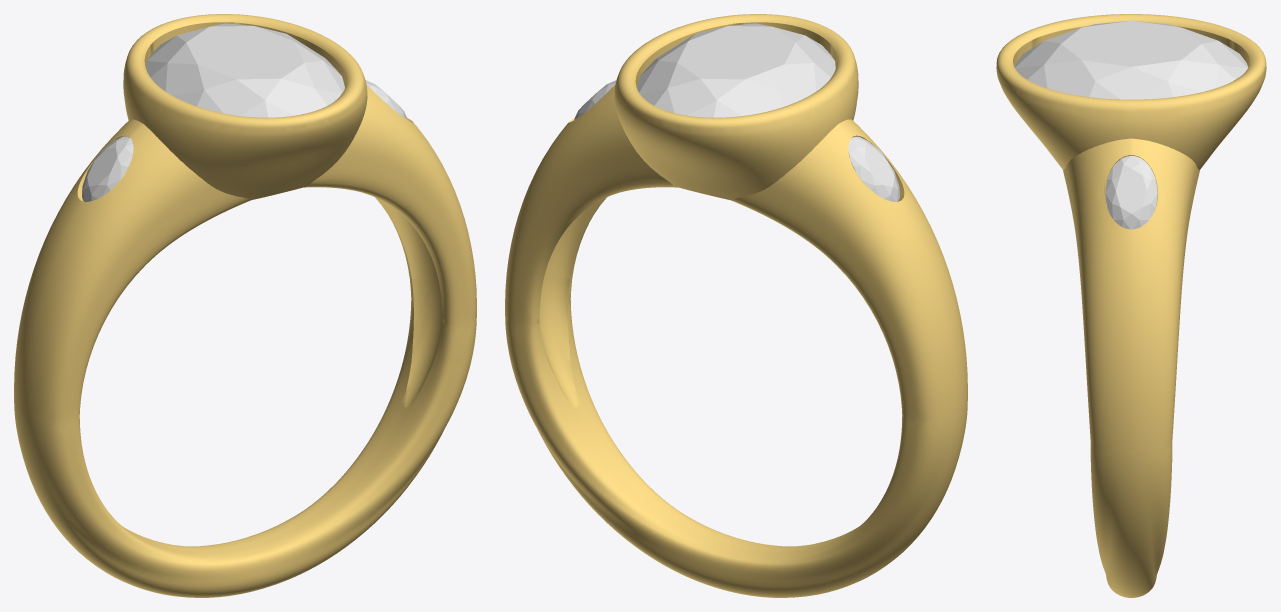
Rendered from SamV5new_blender.glb.
The picture shows the model from 3 angles, left to right: view 1: azimuth 30°, elevation 25°; view 2: azimuth 150°, elevation 25°; view 3: azimuth 270°, elevation 25°; orthographic projection.
Parts seen in each view (by area): view 1: V5 Sam YG for 3d model, V5 Sam dia for 3d model, V5 Sam dia for 3d model.002; view 2: V5 Sam YG for 3d model, V5 Sam dia for 3d model, V5 Sam dia for 3d model.002; view 3: V5 Sam YG for 3d model, V5 Sam dia for 3d model, V5 Sam dia for 3d model.001.
Boxes of the visible parts, <box> form: V5 Sam YG for 3d model: <box>14,14,476,597</box>; V5 Sam dia for 3d model: <box>146,23,344,117</box>; V5 Sam dia for 3d model.002: <box>82,136,133,201</box>; V5 Sam YG for 3d model: <box>505,14,967,597</box>; V5 Sam dia for 3d model: <box>637,23,835,117</box>; V5 Sam dia for 3d model.002: <box>848,136,899,201</box>; V5 Sam YG for 3d model: <box>996,14,1266,597</box>; V5 Sam dia for 3d model: <box>1014,20,1248,99</box>; V5 Sam dia for 3d model.001: <box>1105,155,1157,229</box>.
Bounding box in the file's own units: 19.5 × 22.44 × 10.36.
